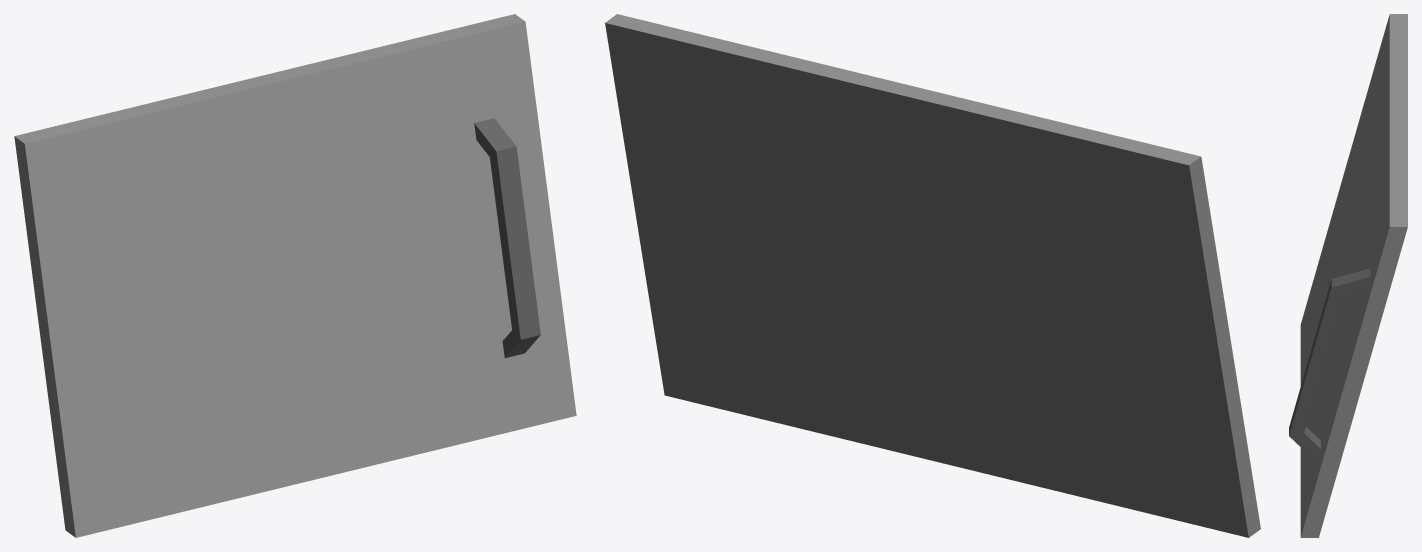
The model's file is fisher_1_equipment.FBX.
3 views of the same model, side by side, from view 1: azimuth 30°, elevation 25°; view 2: azimuth 150°, elevation 25°; view 3: azimuth 270°, elevation 25° (orthographic). The views are drawn at different scales.
Parts seen in each view (by area): view 1: fisher_1_equipment; view 2: fisher_1_equipment; view 3: fisher_1_equipment.
Part boxes in pixels (x1=…): fisher_1_equipment: x1=14, y1=14, x2=576, y2=537; fisher_1_equipment: x1=605, y1=14, x2=1260, y2=537; fisher_1_equipment: x1=1289, y1=14, x2=1407, y2=537.
Size of the model in its own units: 35.11 by 23.9 by 8.28.
